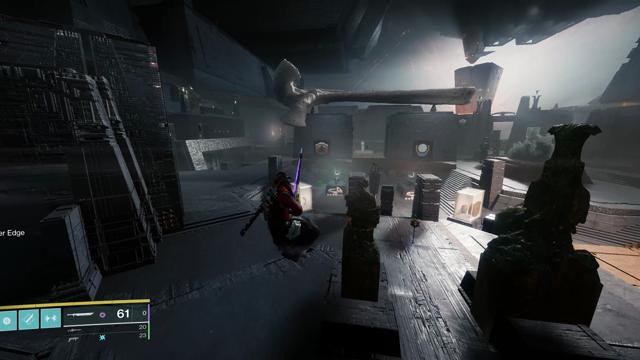commune: (459, 118, 466, 125)
pyramid: (315, 142, 328, 155)
traveler: (416, 143, 430, 156)
